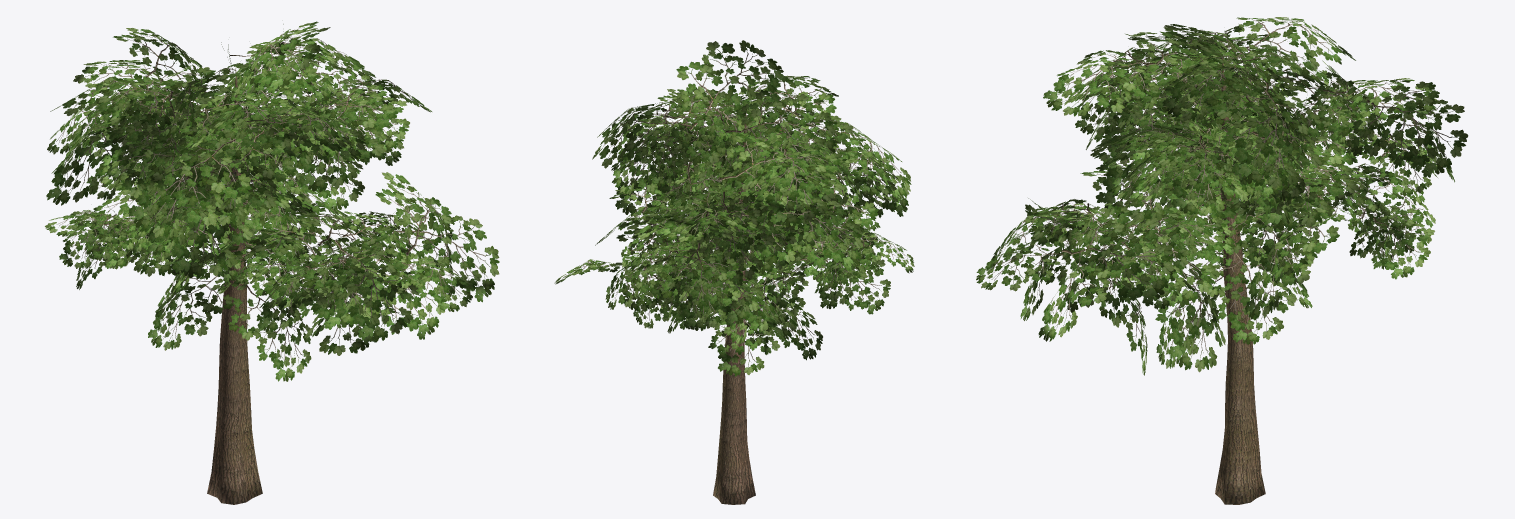
File: Tree3.FBX
The picture shows the model from 3 angles, left to right: view 1: azimuth 30°, elevation 25°; view 2: azimuth 150°, elevation 25°; view 3: azimuth 270°, elevation 25°; orthographic projection. The views are drawn at different scales.
Visible parts, largest first — view 1: treemesh; view 2: treemesh; view 3: treemesh.
Boxes of the visible parts, x1,y1,x2,y2 form: treemesh: [45, 21, 499, 504]; treemesh: [554, 40, 914, 504]; treemesh: [976, 17, 1468, 504].
Size of the model in its own units: 25.08 by 29.4 by 28.12.
